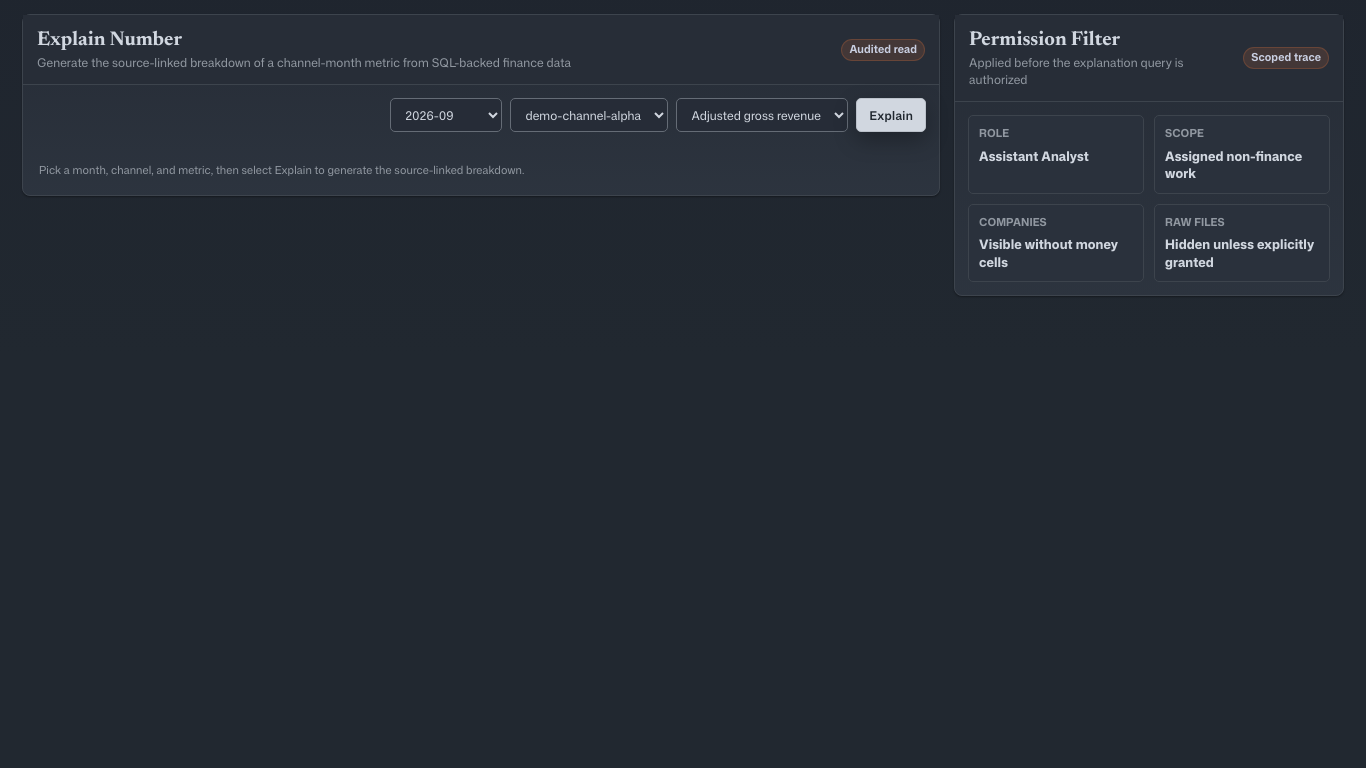
Test: TraceView wired to the explain endpoint › withholds money cells from a viewer without finance permission
// Wait for the button to enable (channel list resolved) before clicking.
Click the button "Explain": click(891, 115) [856,98,926,132]
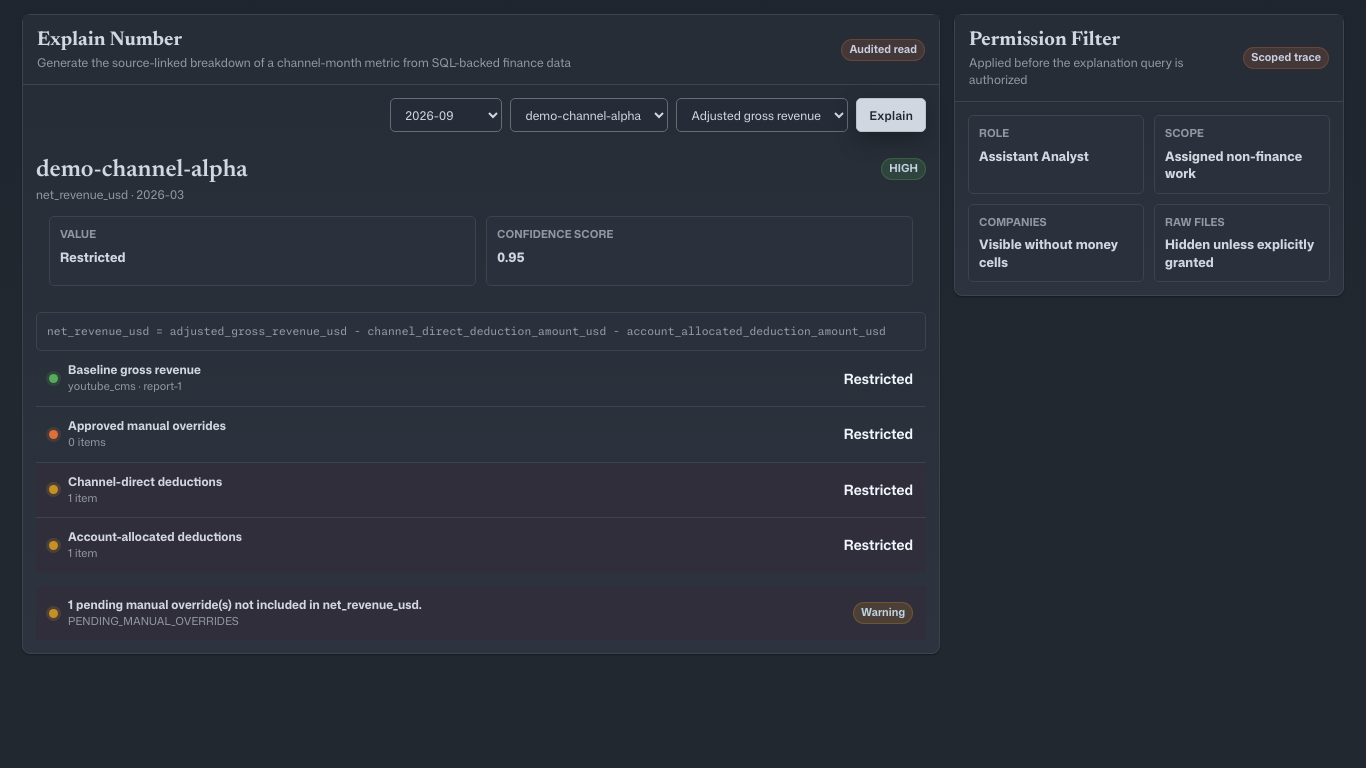
Check: the text "Baseline gross revenue" is shown, box [68,361,201,378]
Check: the text "Restricted" below "Value" is shown, box [60,248,126,266]
